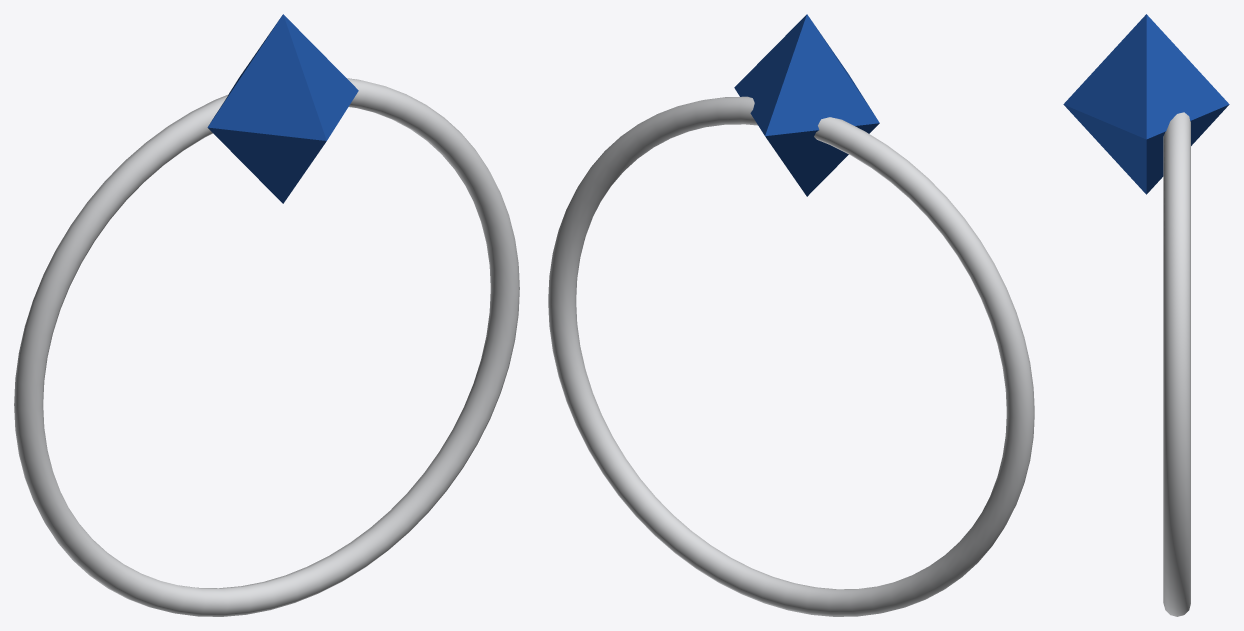
3 renders of one model, left to right at view 1: azimuth 30°, elevation 25°; view 2: azimuth 150°, elevation 25°; view 3: azimuth 270°, elevation 25°, orthographic. The views are drawn at different scales.
Bounding box in the file's own units: 1.79 × 2.07 × 0.54.
